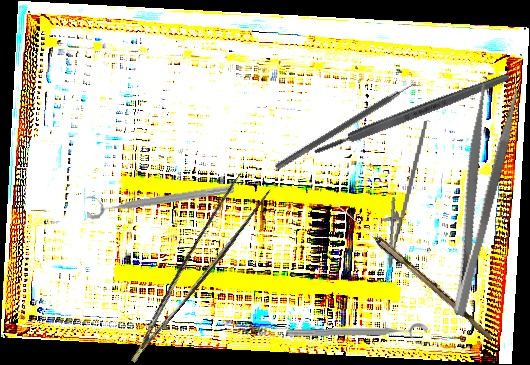Dressing Forceps: (428, 81, 523, 318)
Fixation Ring: (83, 172, 236, 221), (285, 322, 430, 349)
Needle Holder: (375, 116, 429, 271)
Scalpel Handle: (311, 70, 513, 158)
Spatula Surgical: (274, 75, 425, 177)
Surgical Spoon: (332, 201, 497, 341)
Tissue Forceps: (103, 165, 278, 364)
